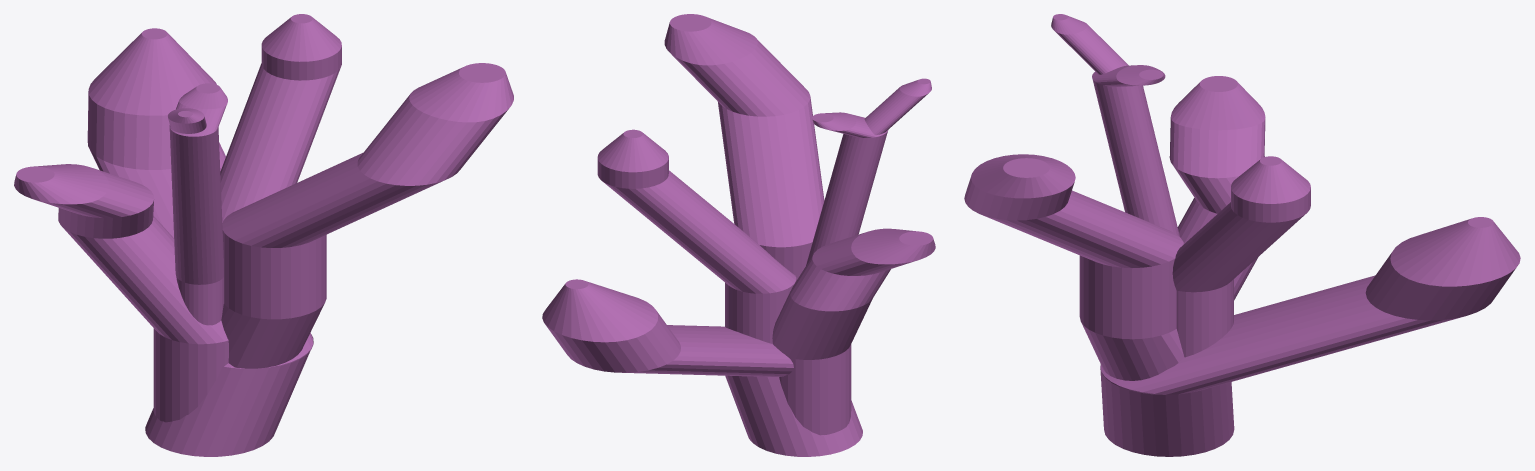
The model's file is Koralle 1.fbx.
3 views of the same model, side by side, from view 1: azimuth 30°, elevation 25°; view 2: azimuth 150°, elevation 25°; view 3: azimuth 270°, elevation 25° (orthographic). The views are drawn at different scales.
Parts seen in each view (by area): view 1: koralle; view 2: koralle; view 3: koralle.
Boxes of the visible parts, x1,y1,x2,y2 form: koralle: [14, 14, 513, 456]; koralle: [542, 14, 935, 456]; koralle: [964, 14, 1520, 456].
Bounding box in the file's own units: 691 × 632 × 854.
